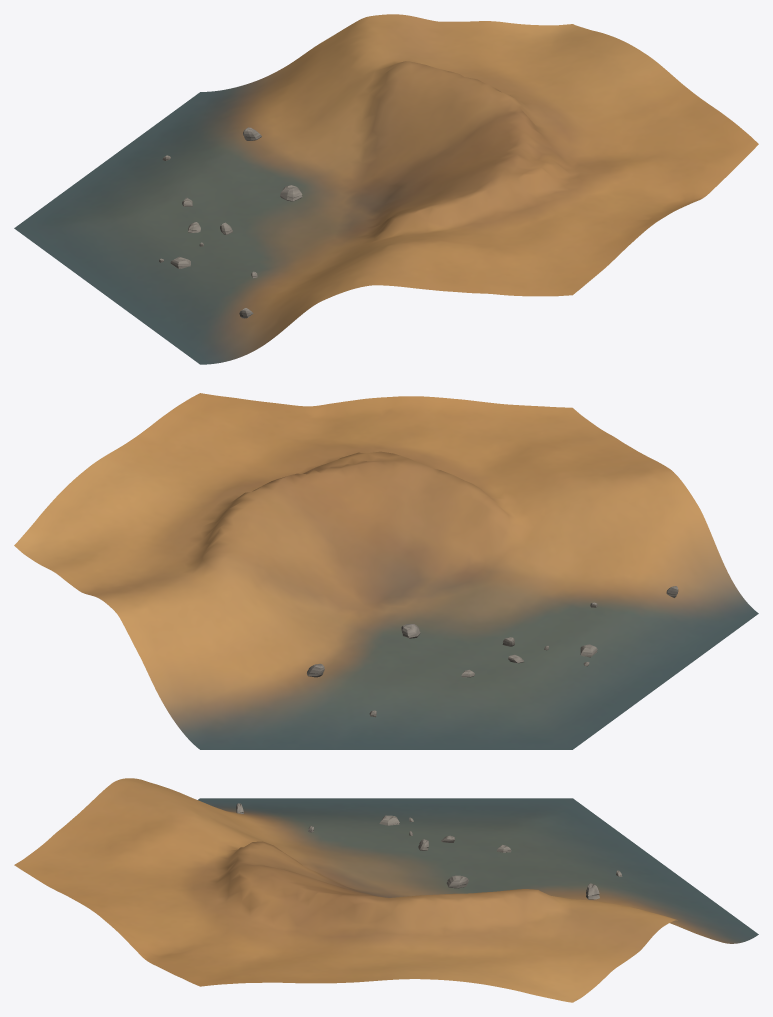
Rendered from costa_-02_-02.glb.
3 views of the same model, one above another, from view 1: azimuth 30°, elevation 25°; view 2: azimuth 150°, elevation 25°; view 3: azimuth 270°, elevation 25° (orthographic).
Parts seen in each view (by area): view 1: terrain, Formações costeiras; view 2: terrain, Formações costeiras; view 3: terrain, Formações costeiras.
Boxes of the visible parts, x1=… form: terrain: x1=14, y1=14, x2=758, y2=364; Formações costeiras: x1=159, y1=127, x2=302, y2=318; terrain: x1=14, y1=393, x2=758, y2=749; Formações costeiras: x1=307, y1=586, x2=678, y2=717; terrain: x1=14, y1=778, x2=758, y2=1002; Formações costeiras: x1=236, y1=803, x2=622, y2=899.
Size of the model in its own units: 4330 by 706 by 5000.
1 material, 1 textured.
